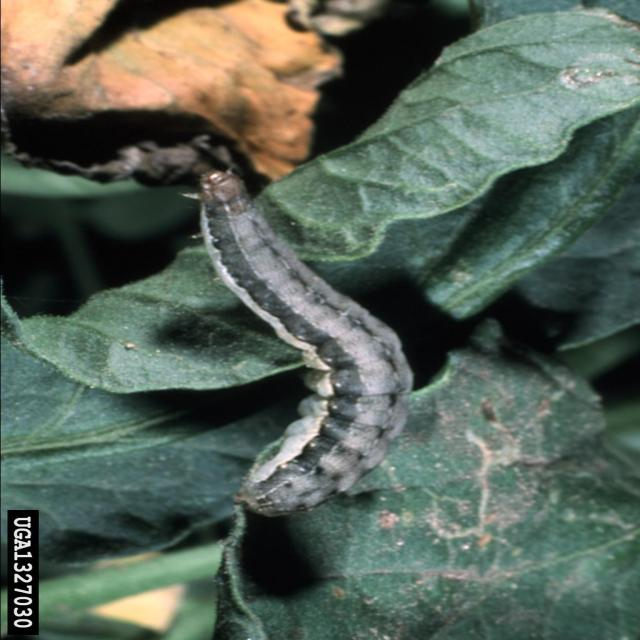army worm: (194, 163, 428, 519)
